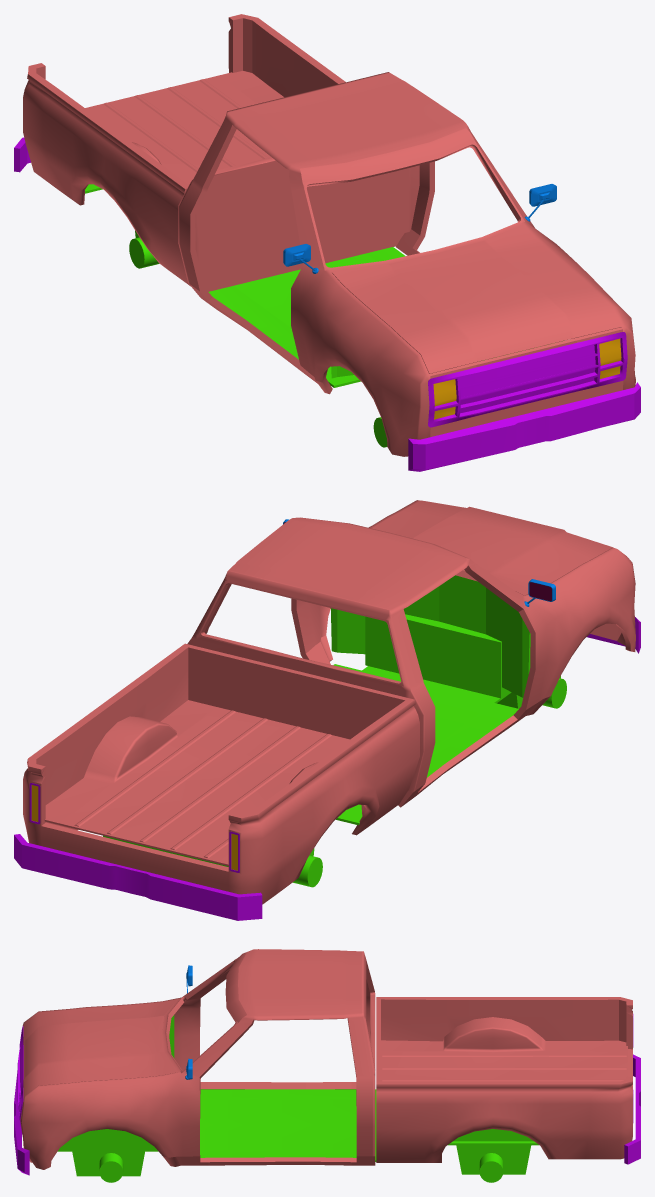
Rendered from PickUp_PickUp_Body.fbx.
3 views of the same model, one above another, from view 1: azimuth 30°, elevation 25°; view 2: azimuth 150°, elevation 25°; view 3: azimuth 270°, elevation 25° (orthographic). The views are drawn at different scales.
Parts seen in each view (by area): view 1: PickUp_PickUp_Body; view 2: PickUp_PickUp_Body; view 3: PickUp_PickUp_Body.
Part boxes in pixels (x1,y1,x2,y2): PickUp_PickUp_Body: [14, 14, 640, 471]; PickUp_PickUp_Body: [14, 500, 640, 920]; PickUp_PickUp_Body: [14, 949, 640, 1182].
Bounding box in the file's own units: 199 × 152 × 513.
